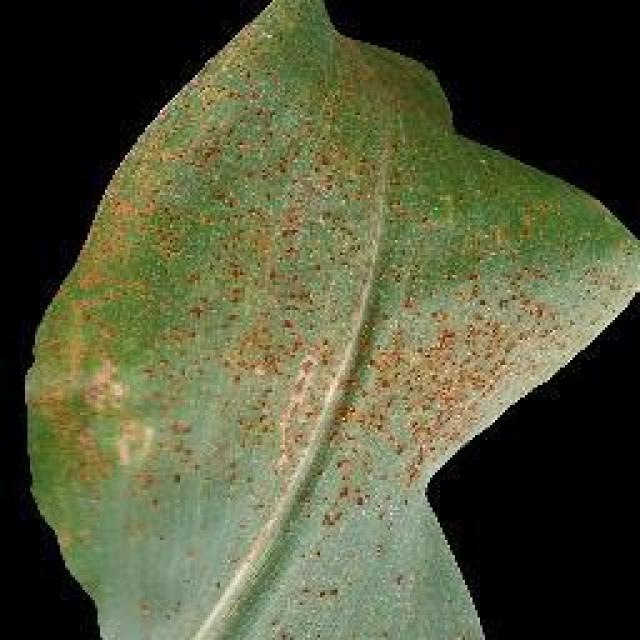Corn Common Rust: (120, 127, 558, 575)
